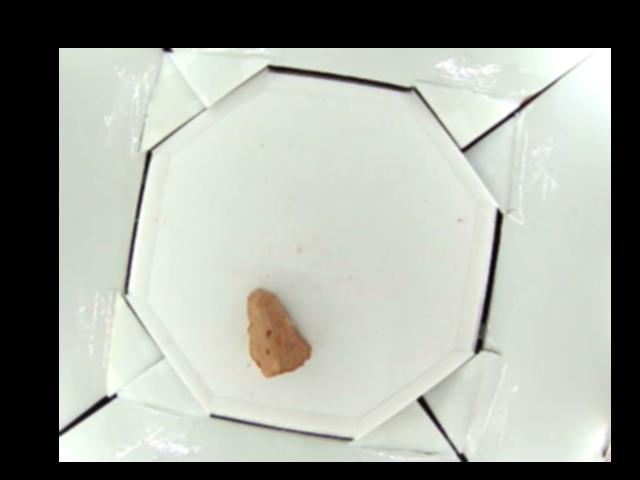Brisk: (248, 291, 311, 378)
